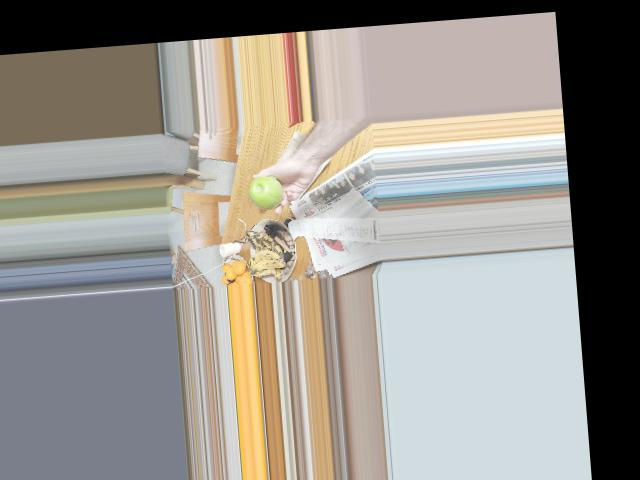apple: (247, 174, 286, 210)
